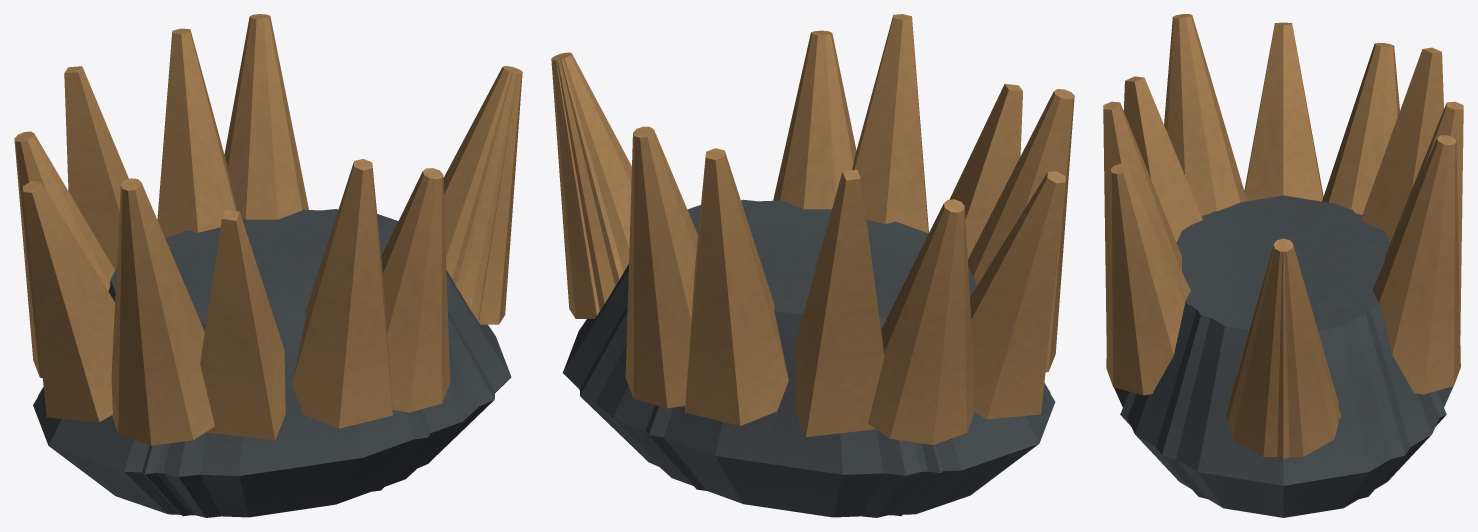
File: EliteCrest.fbx
3 renders of one model, left to right at view 1: azimuth 30°, elevation 25°; view 2: azimuth 150°, elevation 25°; view 3: azimuth 270°, elevation 25°, orthographic. The views are drawn at different scales.
Parts seen in each view (by area): view 1: EliteCrestDetail0, EliteCrestDetail1, EliteCrestDetail2; view 2: EliteCrestDetail0, EliteCrestDetail1, EliteCrestDetail2; view 3: EliteCrestDetail0, EliteCrestDetail1, EliteCrestDetail2.
Boxes of the visible parts, left/top/right/bottom form: EliteCrestDetail0: left=14, top=14, right=522, bottom=517; EliteCrestDetail1: left=23, top=28, right=520, bottom=517; EliteCrestDetail2: left=38, top=66, right=520, bottom=516; EliteCrestDetail0: left=551, top=30, right=1074, bottom=517; EliteCrestDetail1: left=552, top=14, right=1065, bottom=517; EliteCrestDetail2: left=553, top=53, right=1050, bottom=516; EliteCrestDetail0: left=1106, top=14, right=1460, bottom=517; EliteCrestDetail1: left=1103, top=22, right=1463, bottom=498; EliteCrestDetail2: left=1120, top=47, right=1446, bottom=425.
Size of the model in its own units: 60.1 by 41.77 by 39.88.
1 material, 1 textured.
